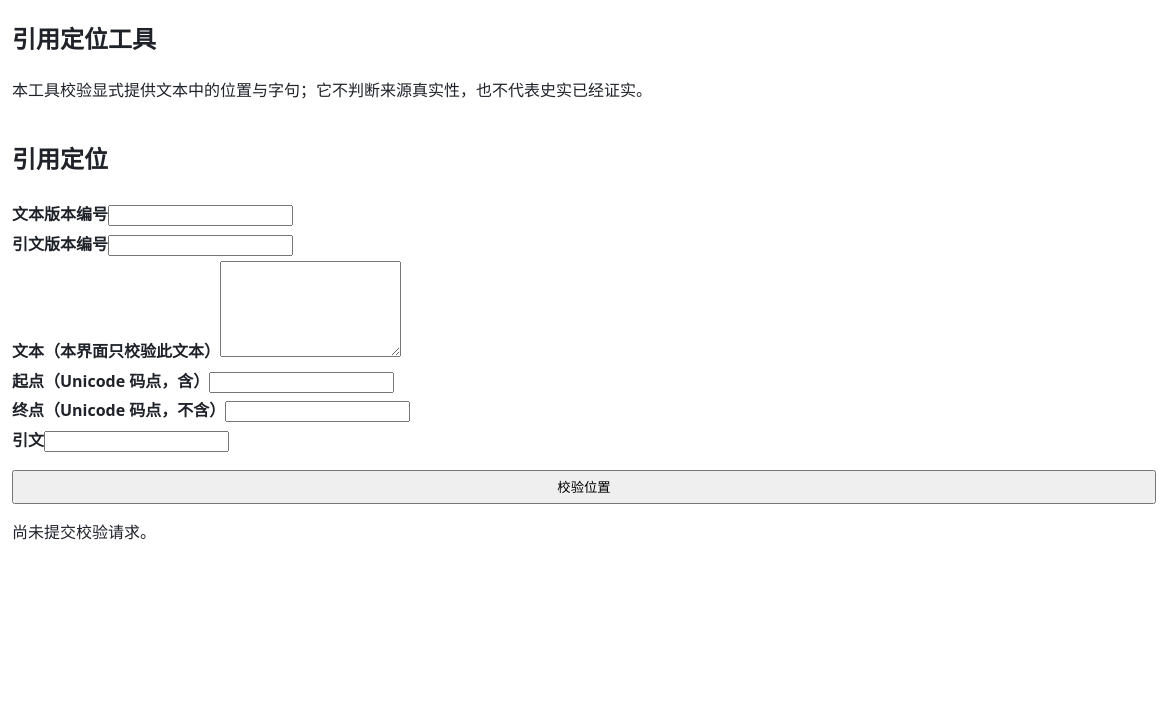
Test case: quote locate tool（工作台视图，当前不作为界面入口） › shows the located range and highlights the astral quote in the source text
The width and height of the screenshot is (1164, 720).
Type "v1" into the field labelled "文本版本编号" at (200, 216), box top-left (108, 205), bottom-right (293, 226)
Type "v1" into the field labelled "引文版本编号" at (200, 245), box top-left (108, 235), bottom-right (293, 256)
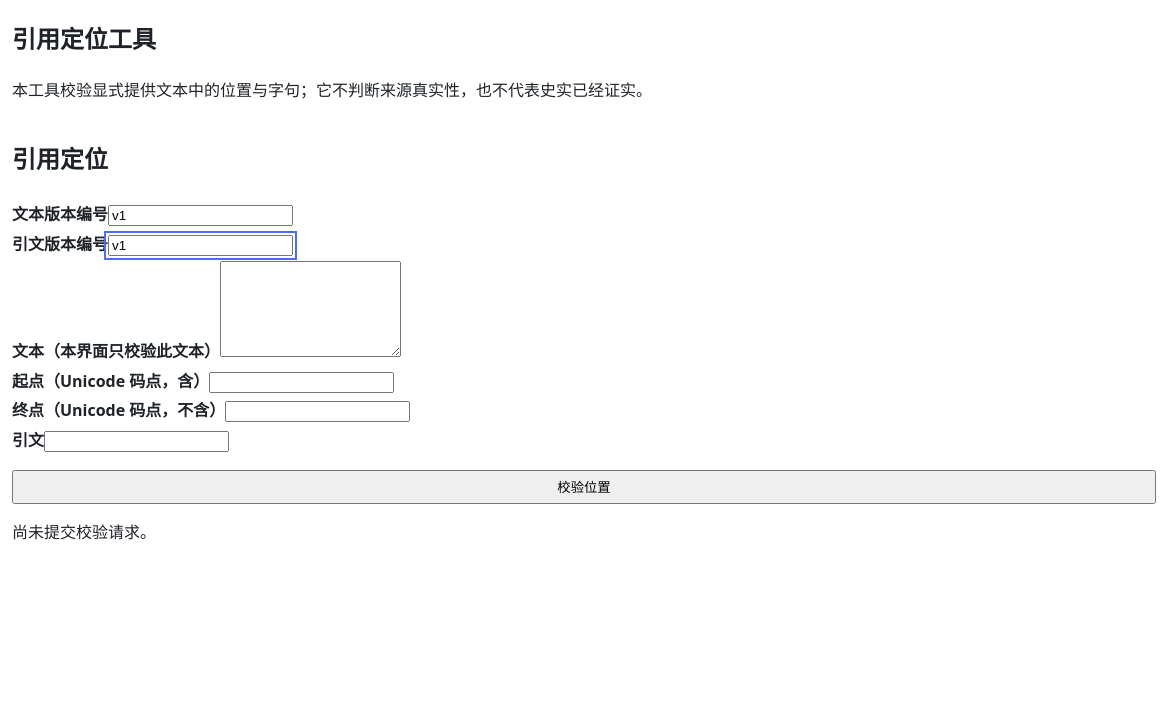
Type "甲𠀀乙" into the text box labelled "文本（本界面只校验此文本）" at (310, 309), box top-left (220, 261), bottom-right (401, 357)
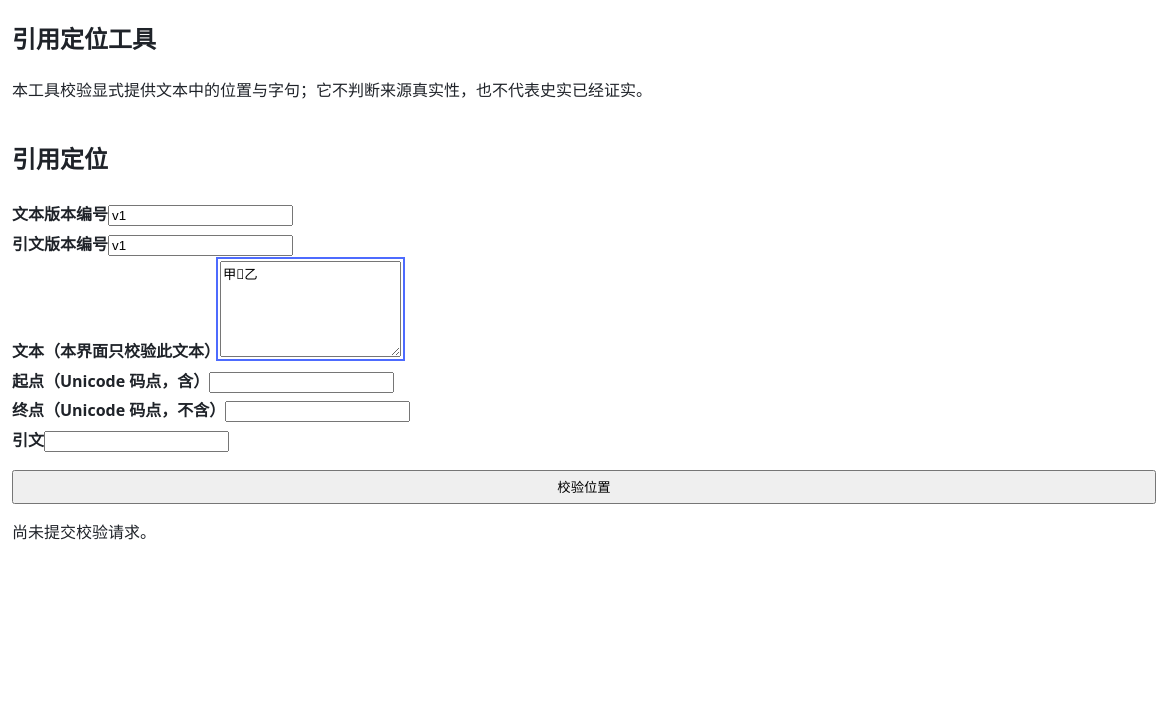
Type "1" into the field labelled "起点（Unicode 码点，含）" at (302, 382), box top-left (209, 372), bottom-right (394, 393)
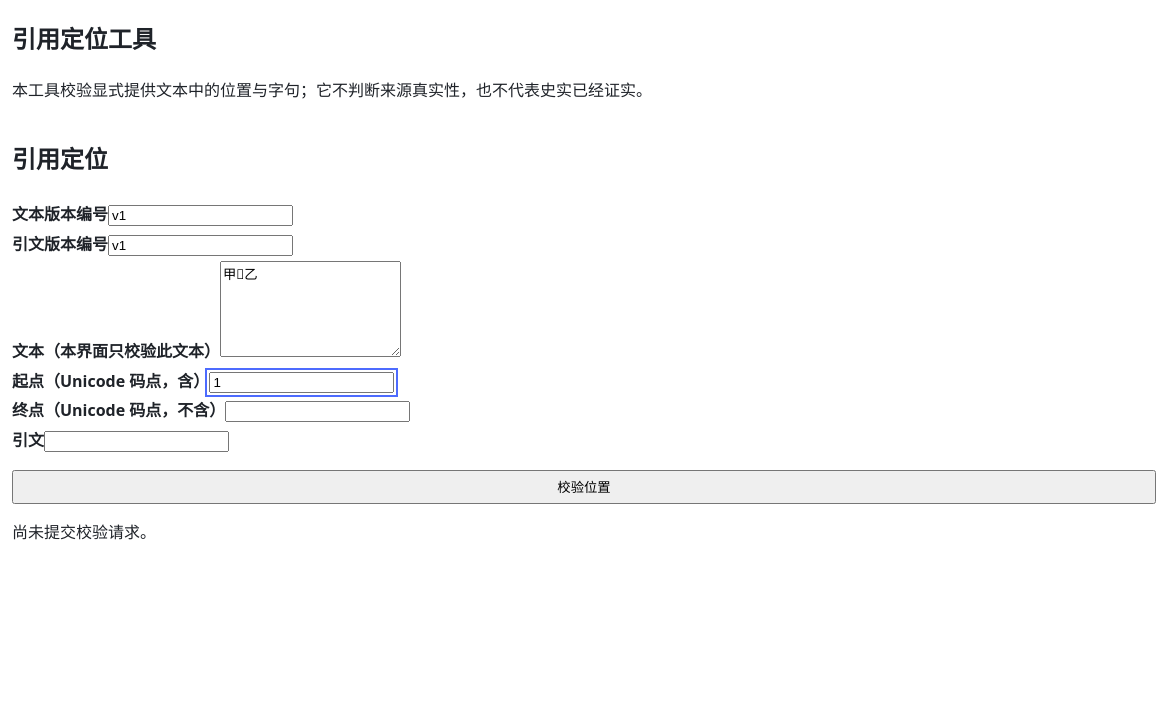
Type "2" into the field labelled "终点（Unicode 码点，不含）" at (318, 412), box top-left (225, 401), bottom-right (410, 422)
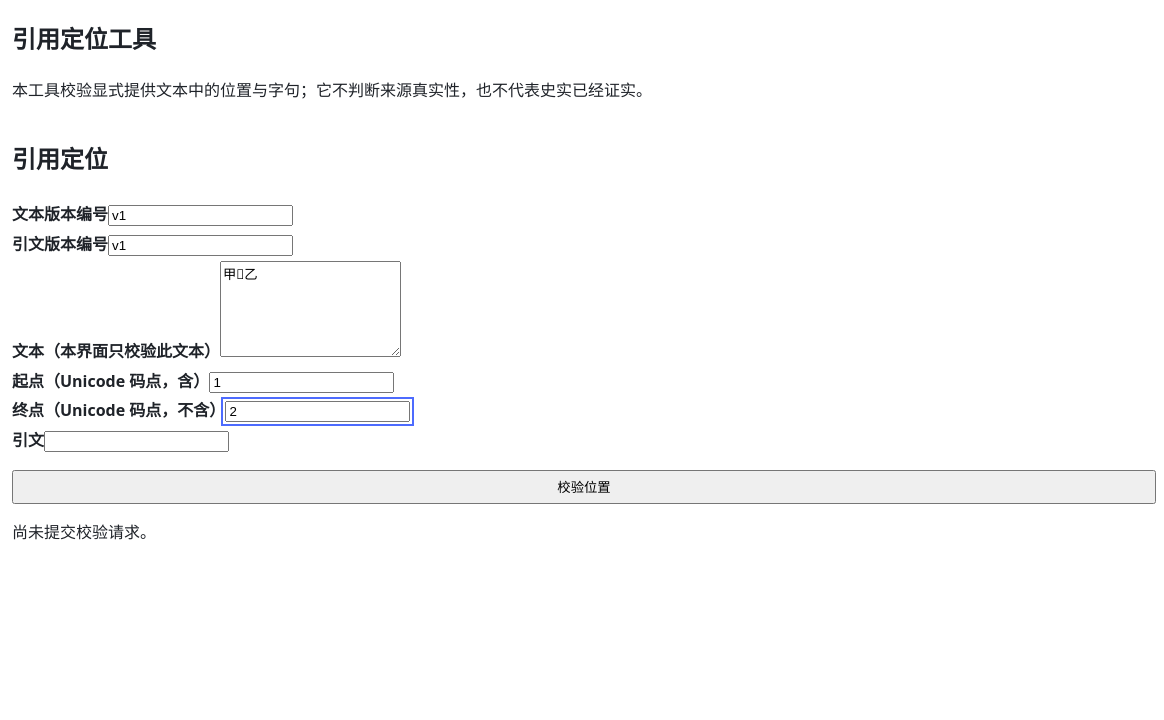
Type "𠀀" into the field labelled "引文" at (136, 442), box top-left (44, 431), bottom-right (229, 452)
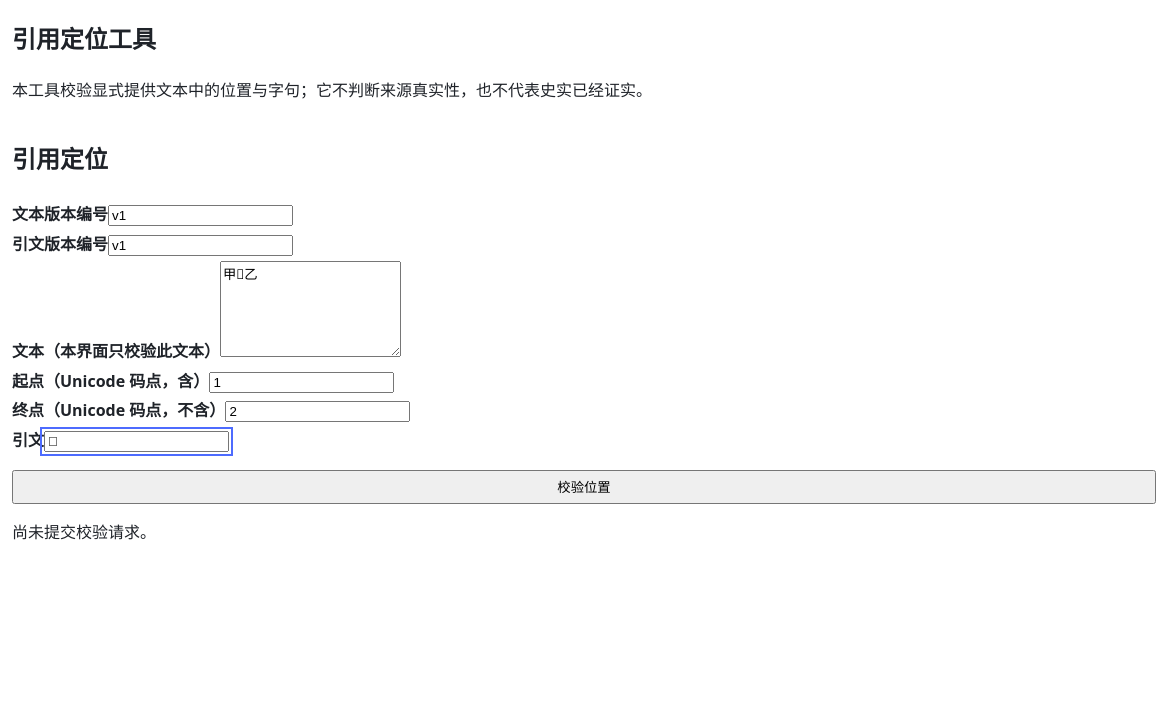
Click the button "校验位置" at (584, 487), box top-left (12, 470), bottom-right (1156, 504)
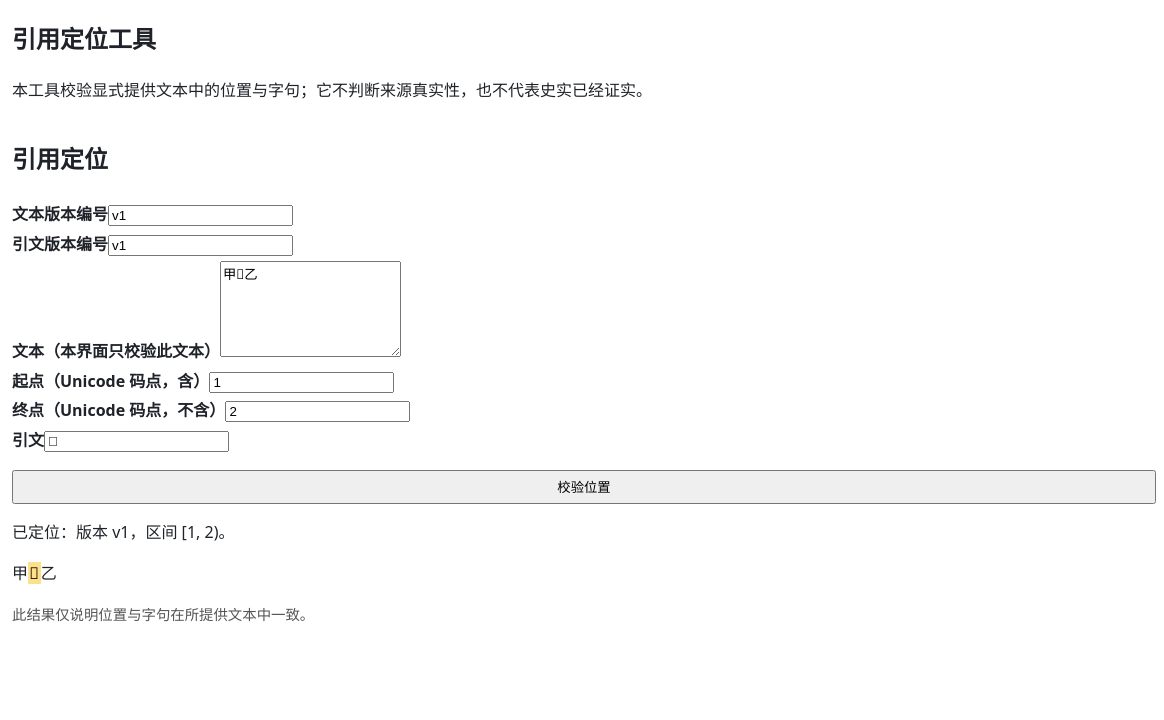
Expected: the element with test id "locate-result" shows "已定位：版本 v1，区间 [1, 2)。", top-left (12, 521), bottom-right (314, 624)
Expected: the text with test id "highlighted-quote" reads "𠀀", top-left (30, 562), bottom-right (39, 584)
Expected: the element with test id "source-highlight" reads "甲𠀀乙", top-left (12, 562), bottom-right (57, 584)
